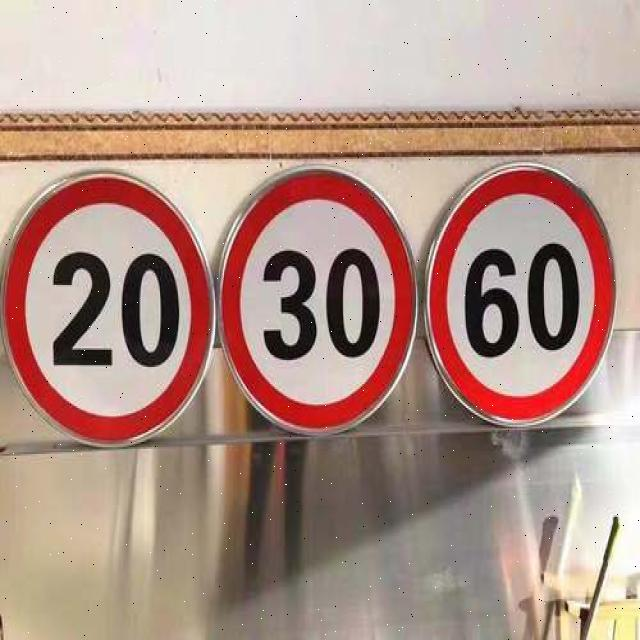speed limit 20: (0, 174, 217, 448)
speed limit 30: (221, 169, 420, 434)
speed limit 60: (422, 163, 618, 426)
